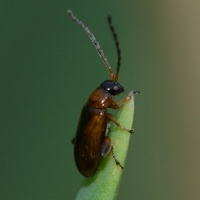insect: (67, 9, 133, 176)
